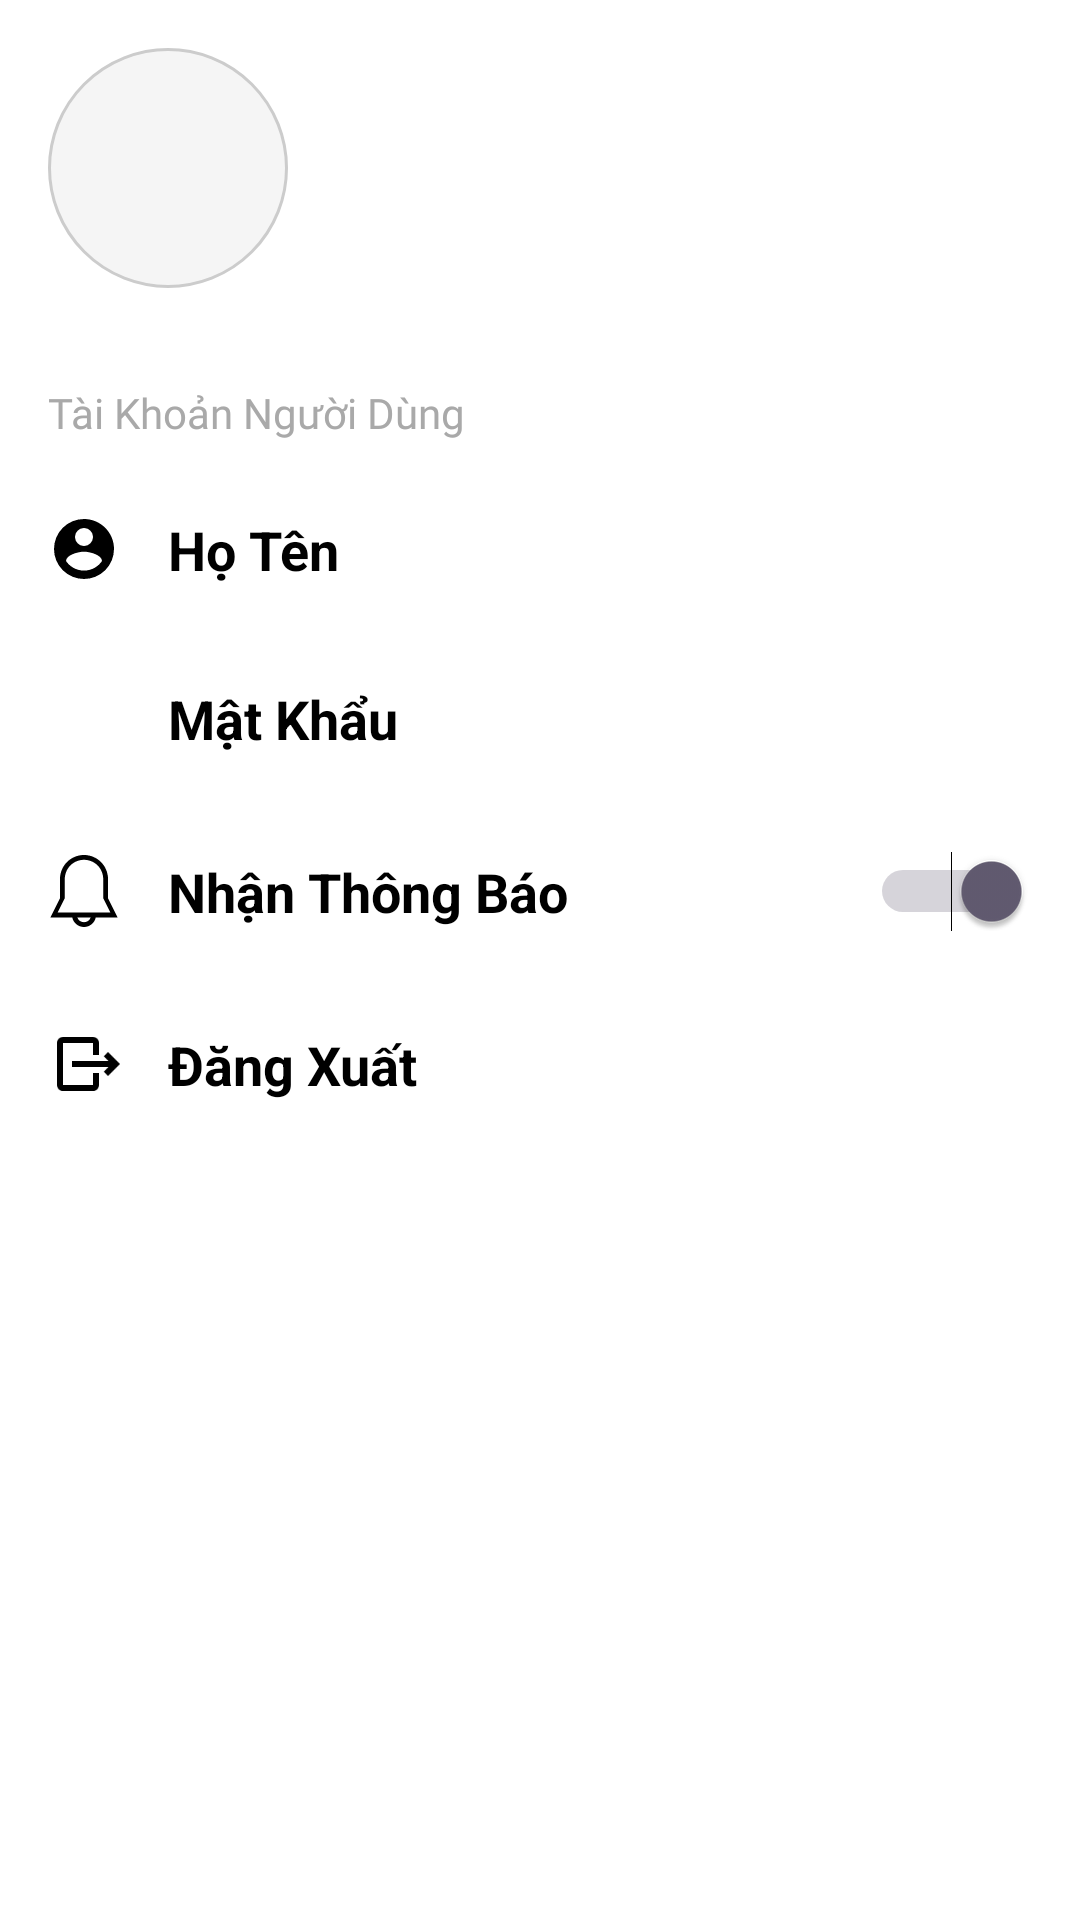

Locate icon controls on the screen. Image size 1080w x 1920h, boxes as detection(x1, y1, x2, y2).
notifications: detection(50, 855, 118, 927)
profile: detection(54, 519, 114, 579)
